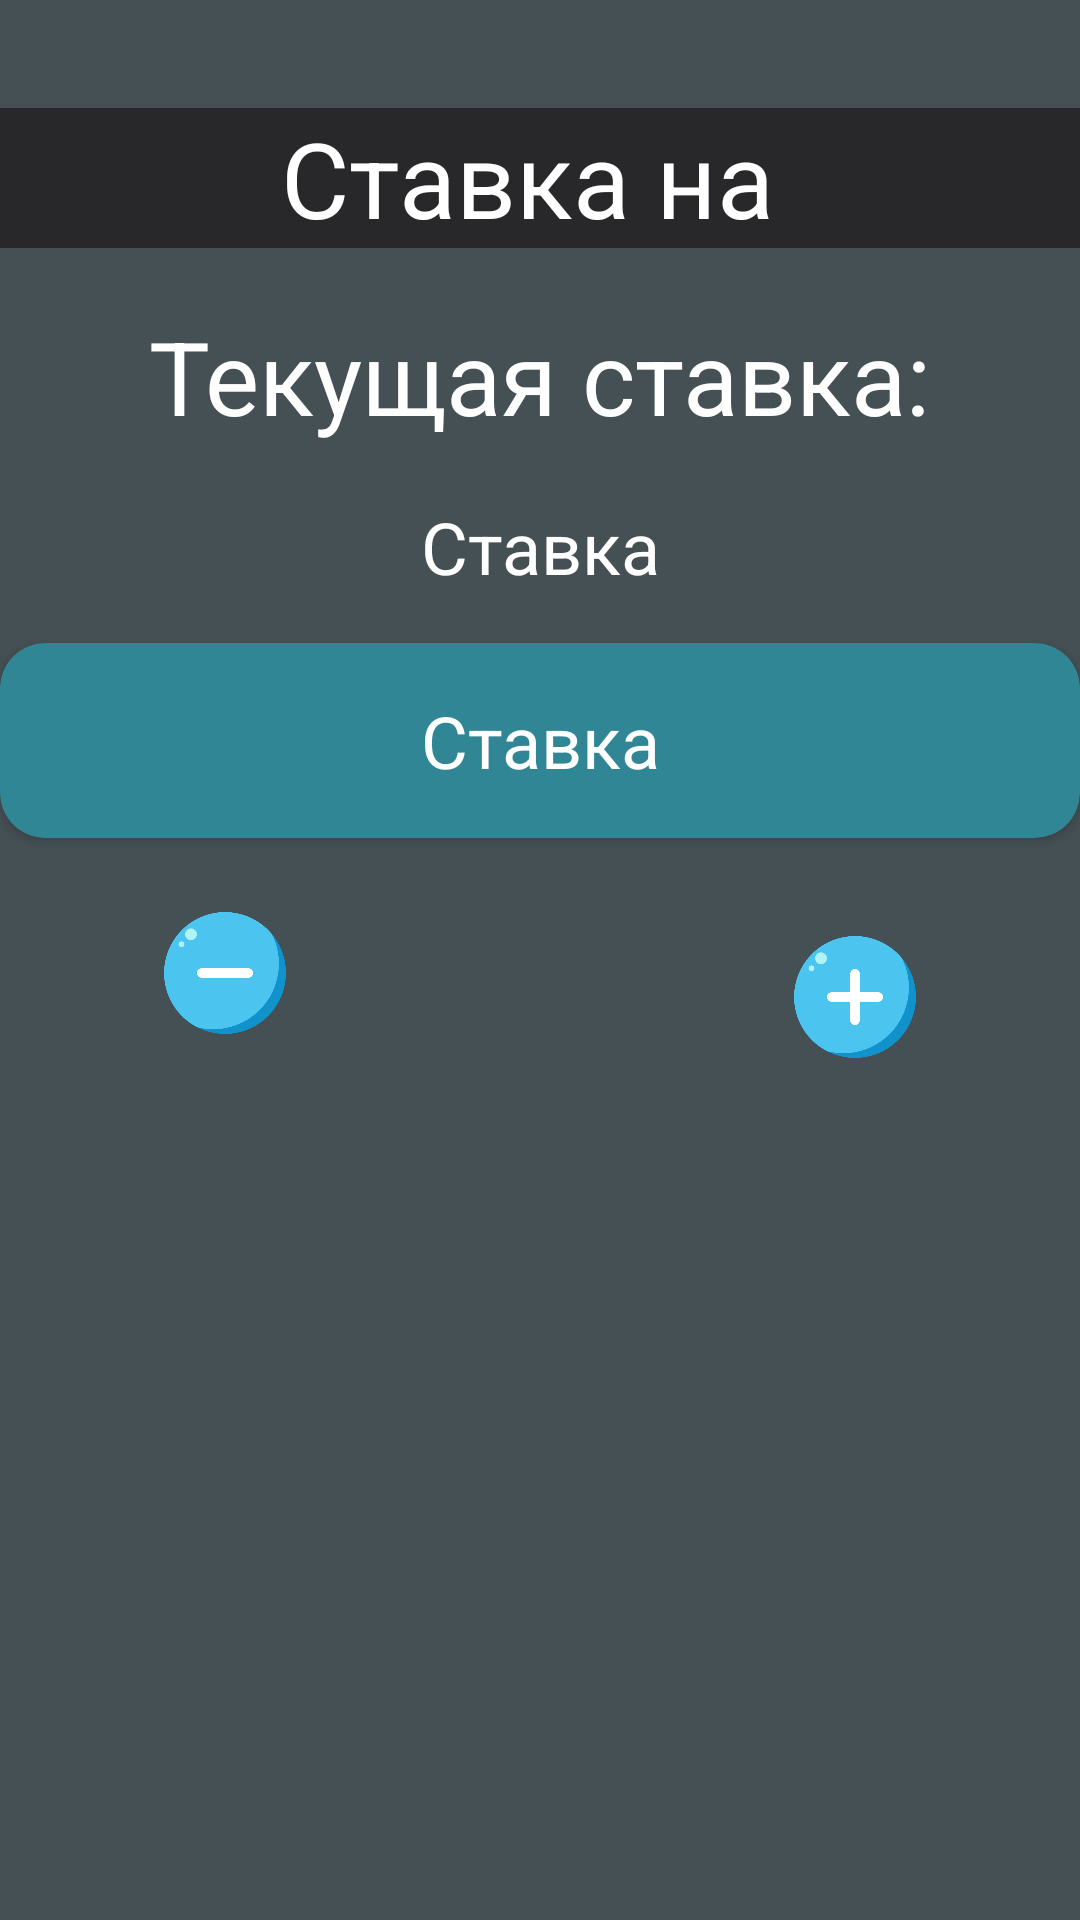

Screen size 1080 × 1920. Icon name, then its center in pixels as [x,y]:
add butt: [855,997]
minus butt: [225,973]
